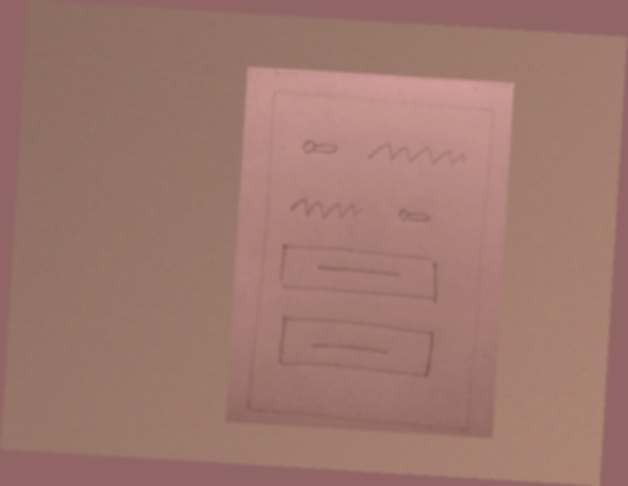button: (272, 310, 442, 386), (271, 237, 446, 310)
switch: (294, 131, 343, 163), (388, 201, 438, 232)
text: (358, 135, 471, 171), (286, 191, 366, 225)
